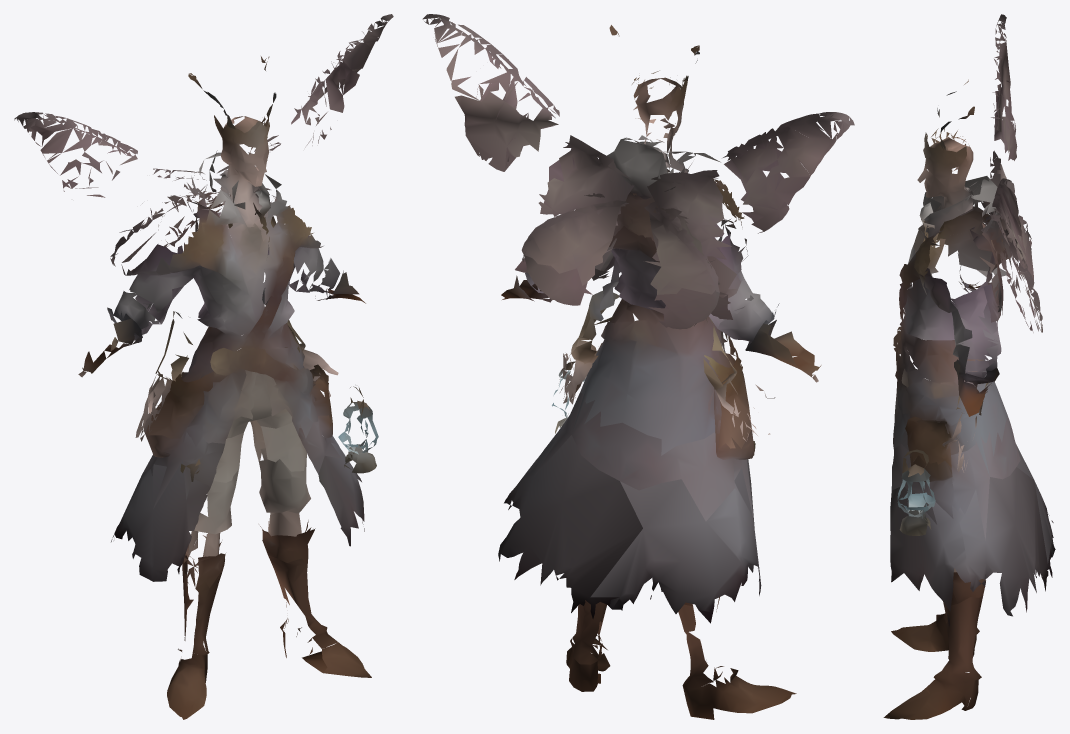
File: sable.glb
The picture shows the model from 3 angles, left to right: view 1: azimuth 30°, elevation 25°; view 2: azimuth 150°, elevation 25°; view 3: azimuth 270°, elevation 25°; orthographic projection. The views are drawn at different scales.
Visible parts, largest first — view 1: torso, thighL, hips, thighR, shinR, shinL, foreL, armL, foreR, armR; view 2: torso, thighL, thighR, hips, armR, armL, foreR, shinL, foreL, shinR; view 3: torso, thighR, hips, shinR, armL, armR, shinL, thighL, foreR, foreL.
Part boxes in pixels (left/top/right/bottom): torso: left=14, top=14, right=393, bottom=446; thighL: left=111, top=460, right=238, bottom=588; hips: left=142, top=402, right=378, bottom=508; thighR: left=258, top=435, right=376, bottom=564; shinR: left=268, top=554, right=371, bottom=677; shinL: left=167, top=572, right=221, bottom=719; foreL: left=110, top=252, right=192, bottom=441; armL: left=114, top=150, right=245, bottom=255; foreR: left=262, top=254, right=338, bottom=397; armR: left=217, top=135, right=280, bottom=250; torso: left=422, top=14, right=854, bottom=455; thighL: left=590, top=459, right=761, bottom=623; thighR: left=498, top=413, right=642, bottom=618; hips: left=534, top=369, right=755, bottom=521; armR: left=521, top=119, right=669, bottom=285; armL: left=644, top=162, right=731, bottom=294; foreR: left=522, top=251, right=620, bottom=404; shinL: left=678, top=597, right=796, bottom=719; foreL: left=648, top=288, right=775, bottom=441; shinR: left=566, top=600, right=610, bottom=691; torso: left=893, top=14, right=1033, bottom=476; thighR: left=890, top=467, right=1052, bottom=626; hips: left=891, top=416, right=1020, bottom=540; shinR: left=883, top=584, right=1045, bottom=719; armL: left=925, top=150, right=1028, bottom=272; armR: left=919, top=202, right=1040, bottom=313; shinL: left=891, top=590, right=979, bottom=656; thighL: left=1016, top=444, right=1055, bottom=563; foreR: left=942, top=301, right=1042, bottom=472; foreL: left=977, top=232, right=1033, bottom=292.
Size of the model in its own units: 0.6624 by 1 by 0.2665.
